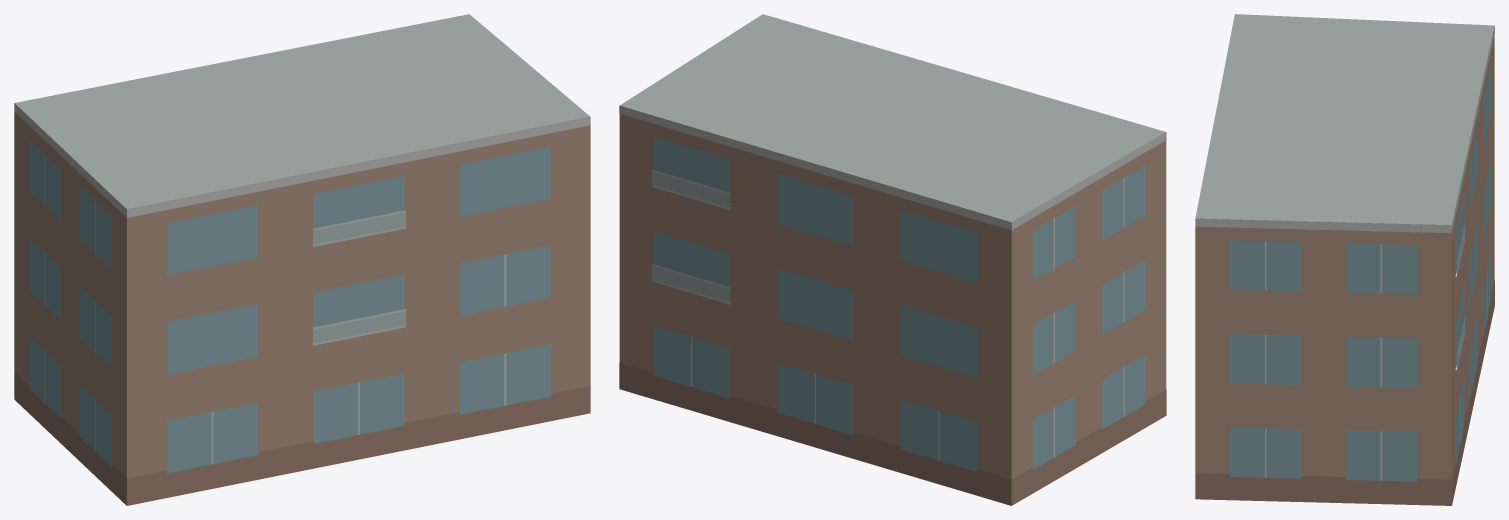
Rendered from survey-upis-32630842.glb.
3 views of the same model, side by side, from view 1: azimuth 30°, elevation 25°; view 2: azimuth 150°, elevation 25°; view 3: azimuth 270°, elevation 25° (orthographic). The views are drawn at different scales.
Visible parts, largest first — view 1: survey-upis-32630842.tmp; view 2: survey-upis-32630842.tmp; view 3: survey-upis-32630842.tmp.
Boxes of the visible parts, x1=… form: survey-upis-32630842.tmp: x1=14, y1=14, x2=590, y2=505; survey-upis-32630842.tmp: x1=619, y1=14, x2=1166, y2=505; survey-upis-32630842.tmp: x1=1195, y1=14, x2=1494, y2=505.
Bounding box in the file's own units: 13.73 × 8.5 × 8.23.
